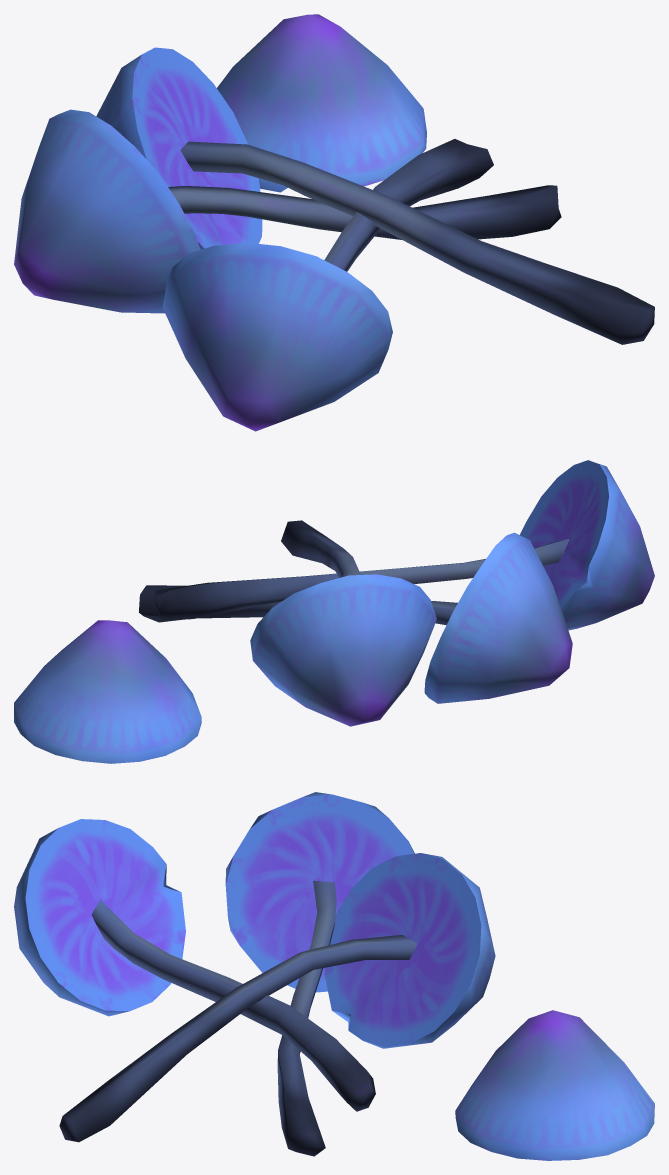
Rendered from SM_Potion_Props_Loot_Mushroom_01_C.fbx.
The picture shows the model from 3 angles, top to bottom: view 1: azimuth 30°, elevation 25°; view 2: azimuth 150°, elevation 25°; view 3: azimuth 270°, elevation 25°; orthographic projection. The views are drawn at different scales.
Parts seen in each view (by area): view 1: SM_Potion_Props_Loot_Mushroom_01_C_LOD0; view 2: SM_Potion_Props_Loot_Mushroom_01_C_LOD0; view 3: SM_Potion_Props_Loot_Mushroom_01_C_LOD0.
Part boxes in pixels (box(x1,y1,x2,y2)): SM_Potion_Props_Loot_Mushroom_01_C_LOD0: box(14, 14, 654, 431); SM_Potion_Props_Loot_Mushroom_01_C_LOD0: box(14, 460, 654, 763); SM_Potion_Props_Loot_Mushroom_01_C_LOD0: box(14, 792, 654, 1160).
Size of what is drawn, in the model's own units: 11.72 by 4.53 by 14.32.
